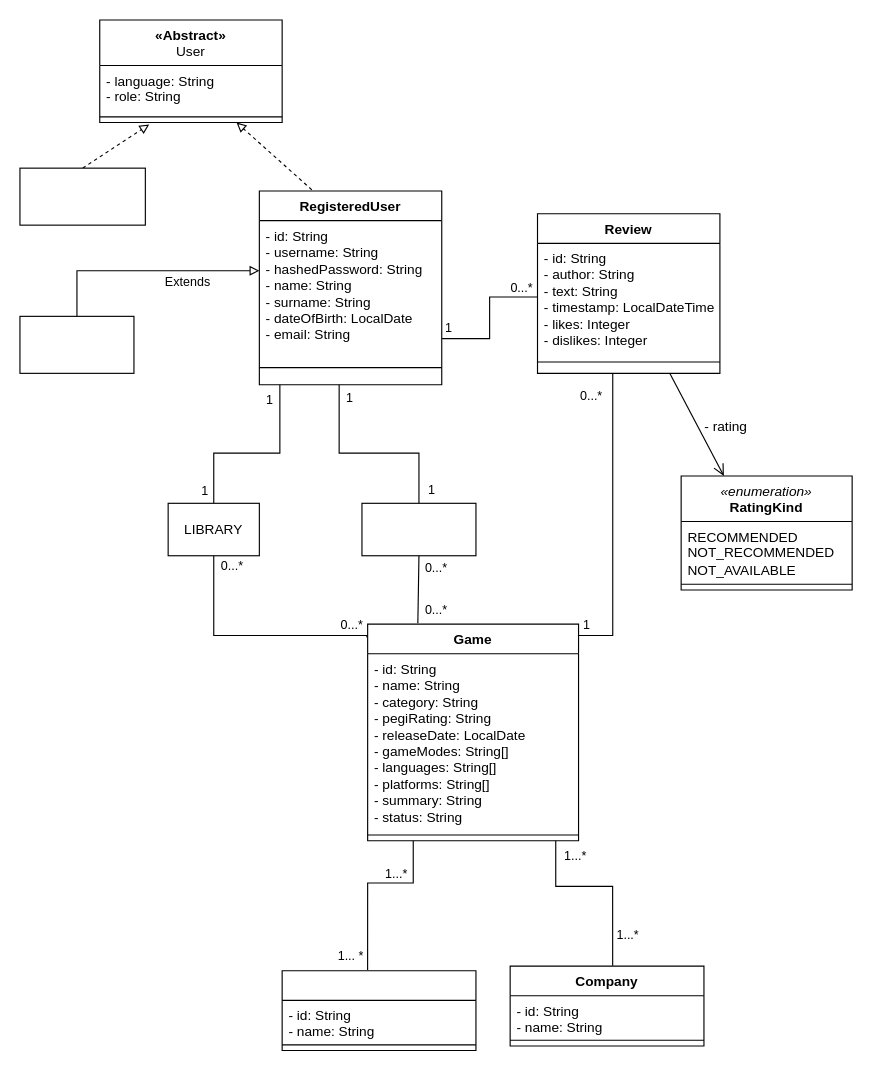
The diagram is 872 pixels wide and 1070 high, and some of its shapes have lost their labels. The box of each missing label's shape, as (x1, y1, x2, y2) in pixels:
Genre: (281, 970, 476, 1051)
MODERATOR: (19, 315, 134, 373)
UNREGISTERED USER: (19, 167, 145, 225)
WHISHLIST: (361, 502, 476, 556)
